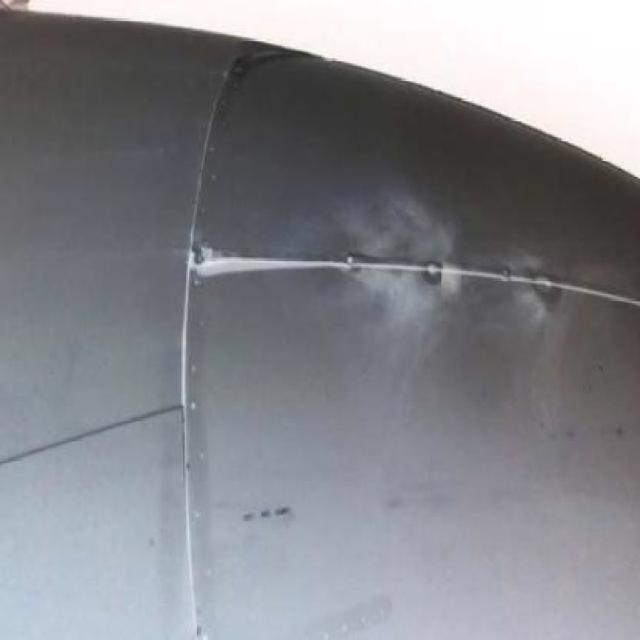crack: (191, 256, 342, 273)
